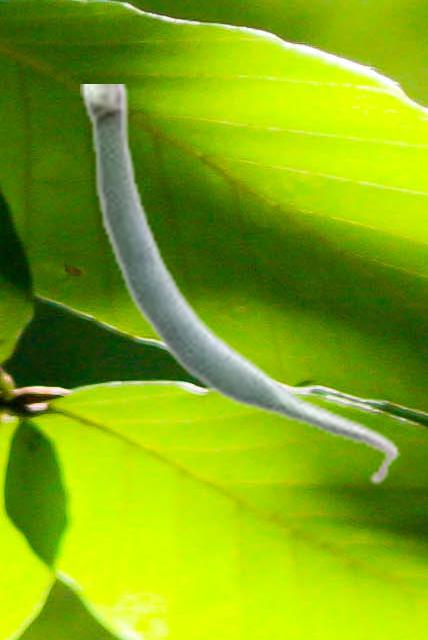french_bean: (80, 84, 399, 486)
